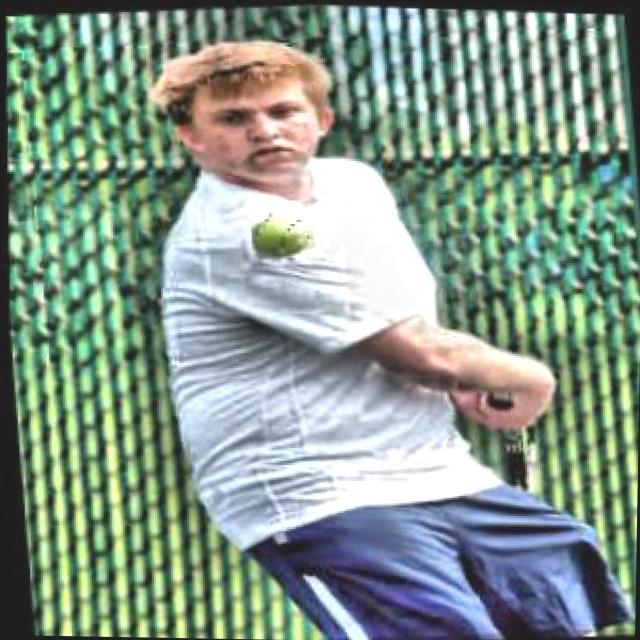Tennis Ball: (250, 210, 317, 265)
